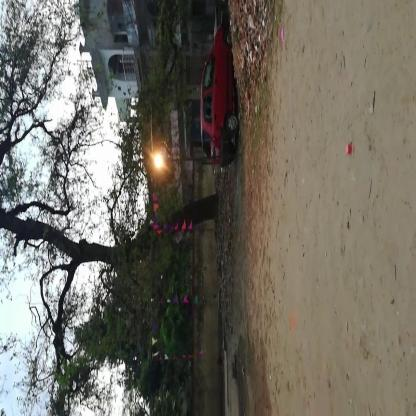other: (142, 138, 176, 186)
